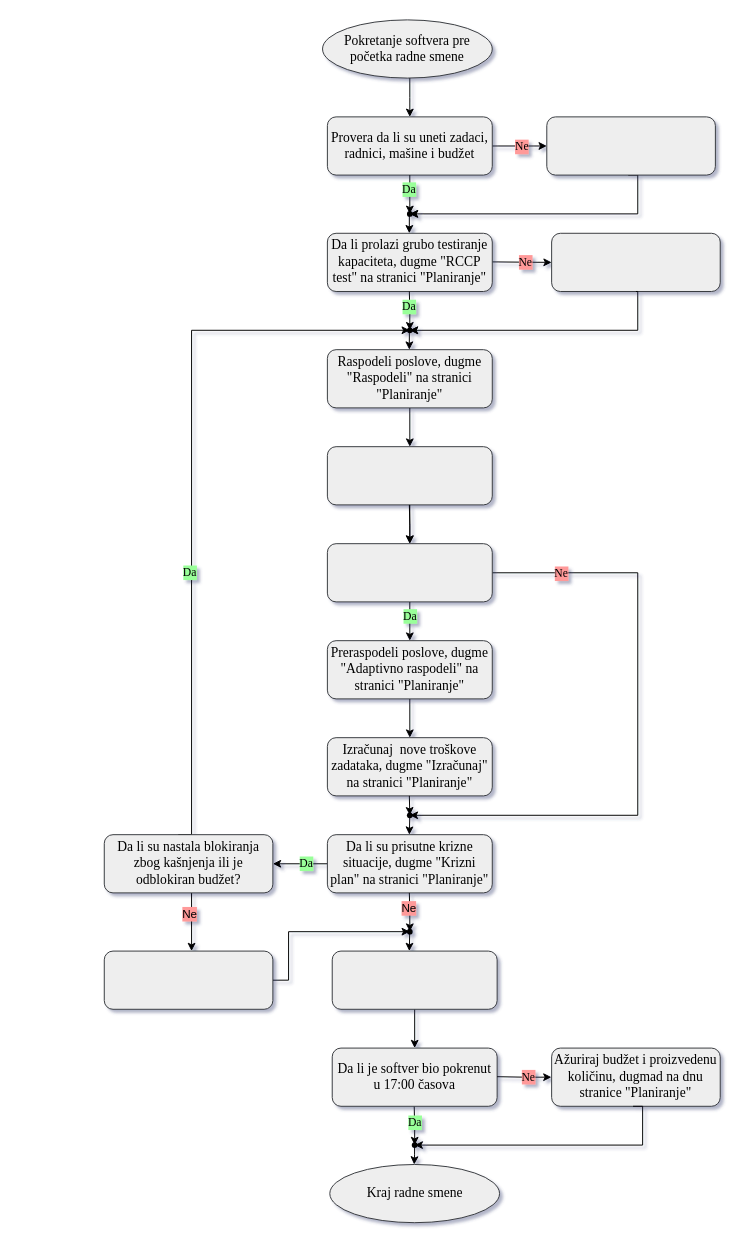
The diagram is 743 pixels wide and 1245 high, and some of its shapes have lost their labels. Here are the shapes that lost their labels. From the top down, the centre of each, then its label:
point 630,145: Dodaj sve što postoji u sistemu
point 635,261: Ako je moguće dodaj ili učini dostupnim potrebne radnike ili mašine
point 409,475: Izračunaj troškove zadataka, dugme "Izračunaj" na stranici "Planiranje"
point 409,572: Proveri da li je prisutno kašnjenje kod zadataka Na stranici "Zadaci"
point 188,979: Proveri budžet, pao je na rizičnu vrednost ili je uzrokovao blokadu zadatka
point 414,979: Generiši izveštaj, dugme na stranici "Izveštaj"
